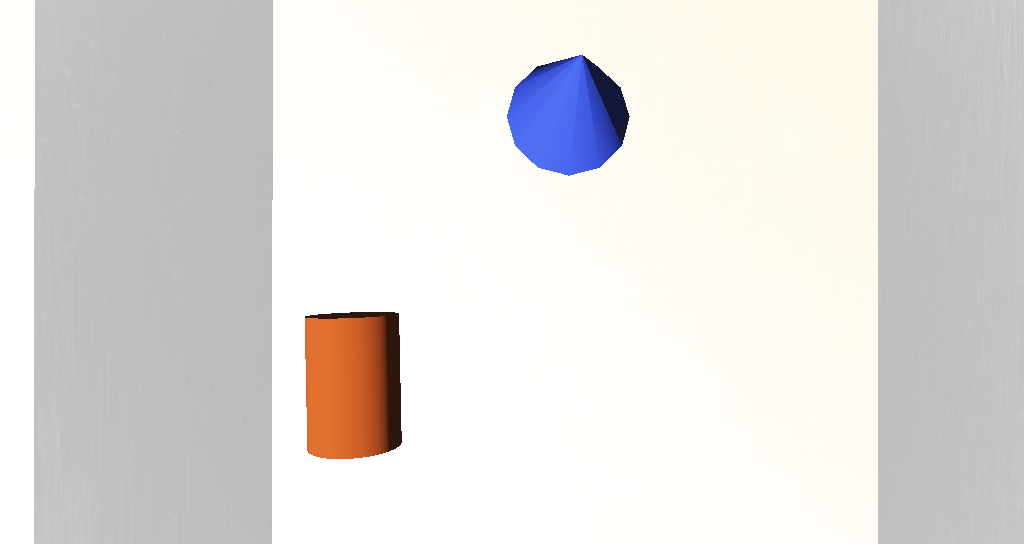cone: (371, 282, 424, 329)
cylinder: (475, 177, 536, 234)
sphere: (441, 403, 529, 465)
